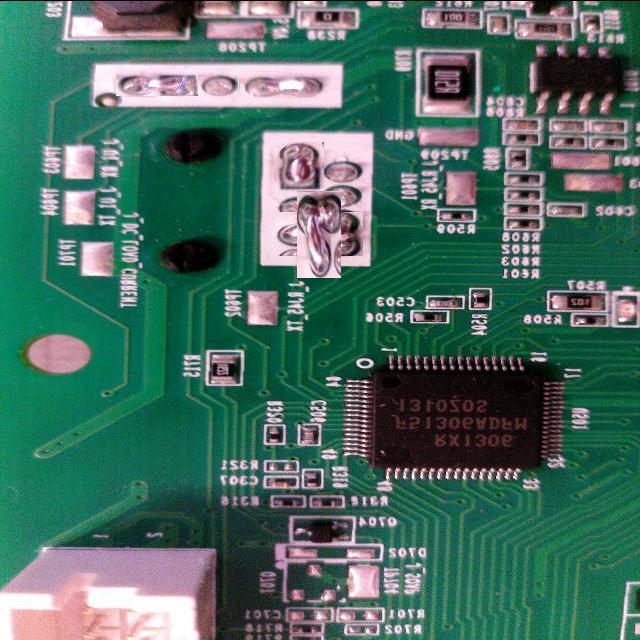Short_circuit: (286, 201, 352, 267), (274, 142, 324, 196), (238, 71, 330, 98), (116, 70, 198, 96)
